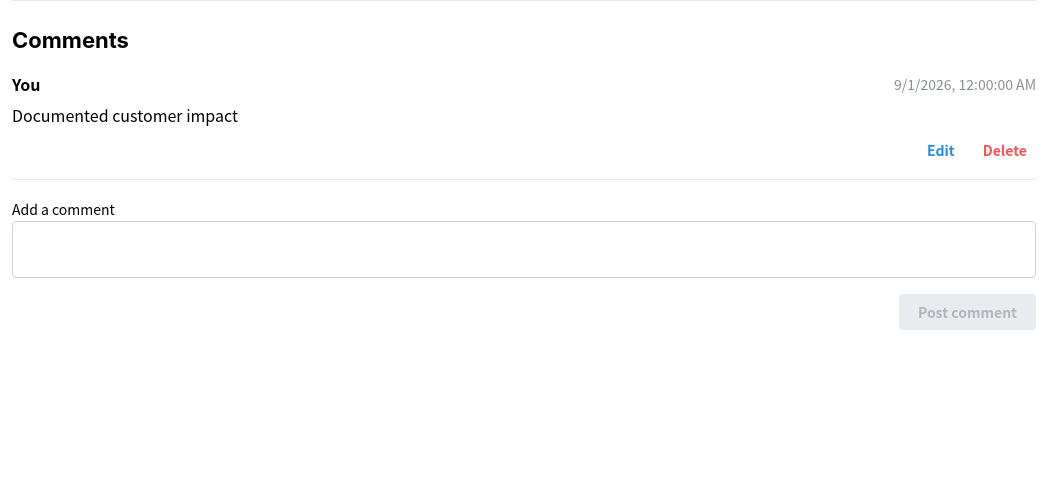
Test: edits the authors comment and preserves the draft if saving fails
Click the button "Edit": (941, 150) [918, 137, 964, 163]
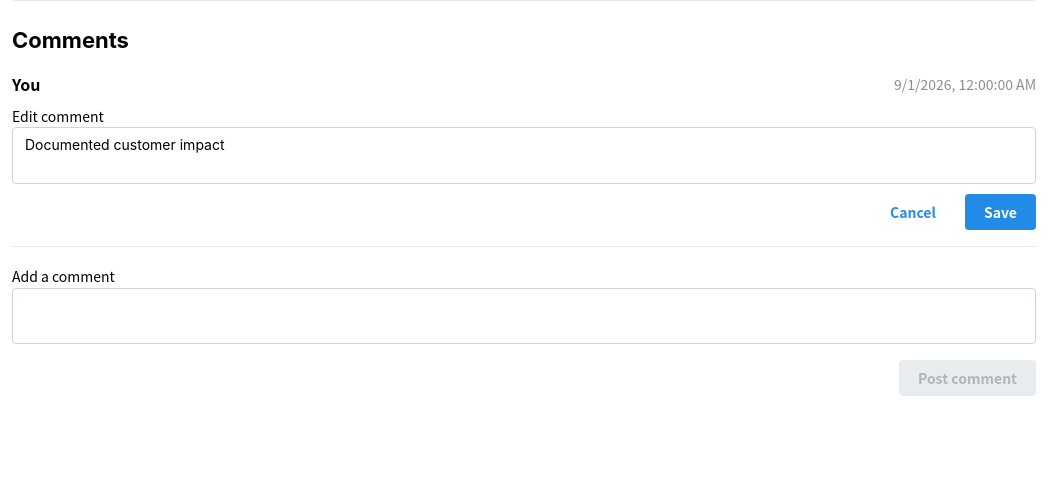
Replace the text in the text box labelled "Edit comment" with "Updated": (524, 156) [12, 127, 1036, 184]
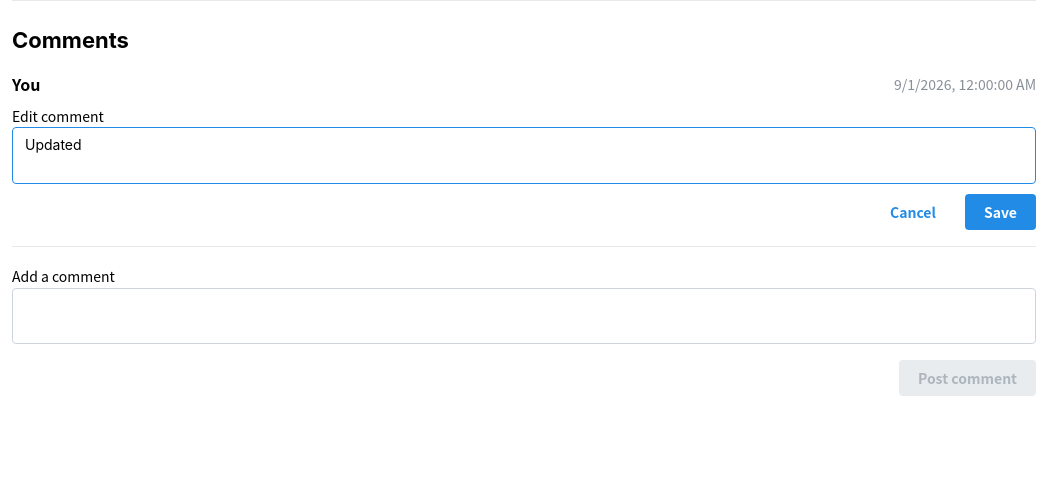
Click the button "Save": (1000, 212) [965, 194, 1036, 230]
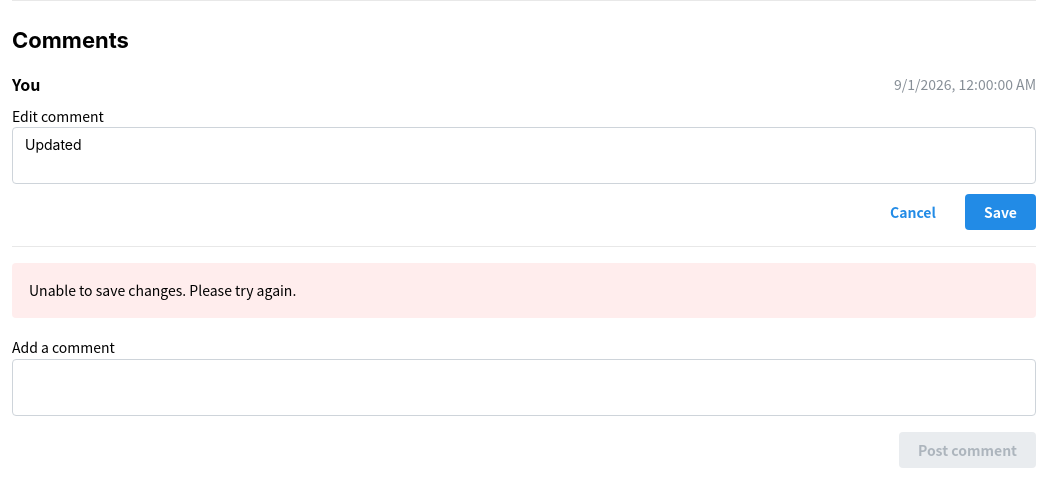
Now the message shows "Unable to save changes", box [29, 280, 296, 300]
Click the button "Save": (1000, 212) [965, 194, 1036, 230]
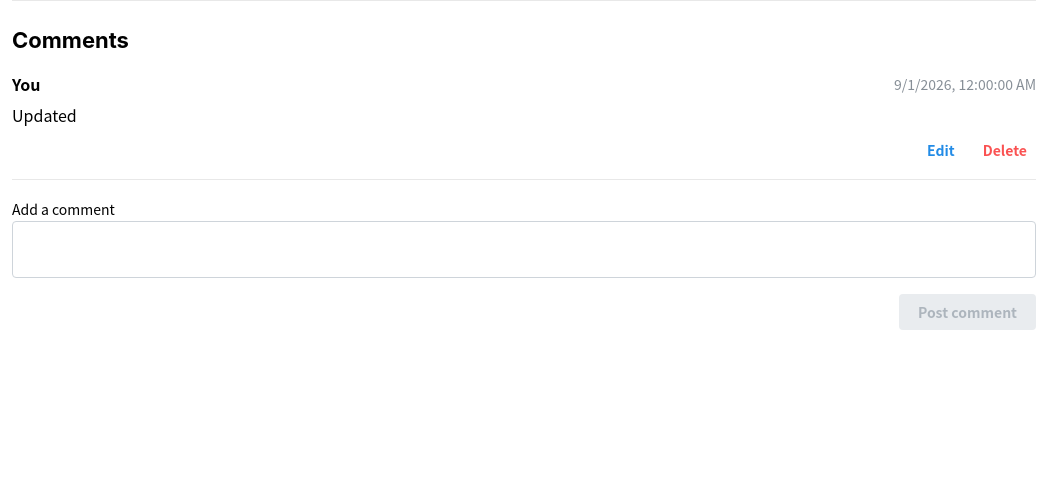
Now the text "Updated" is shown, box [12, 103, 77, 127]
